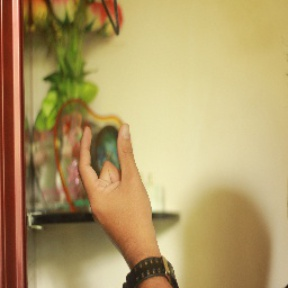U: (63, 117, 160, 235)
